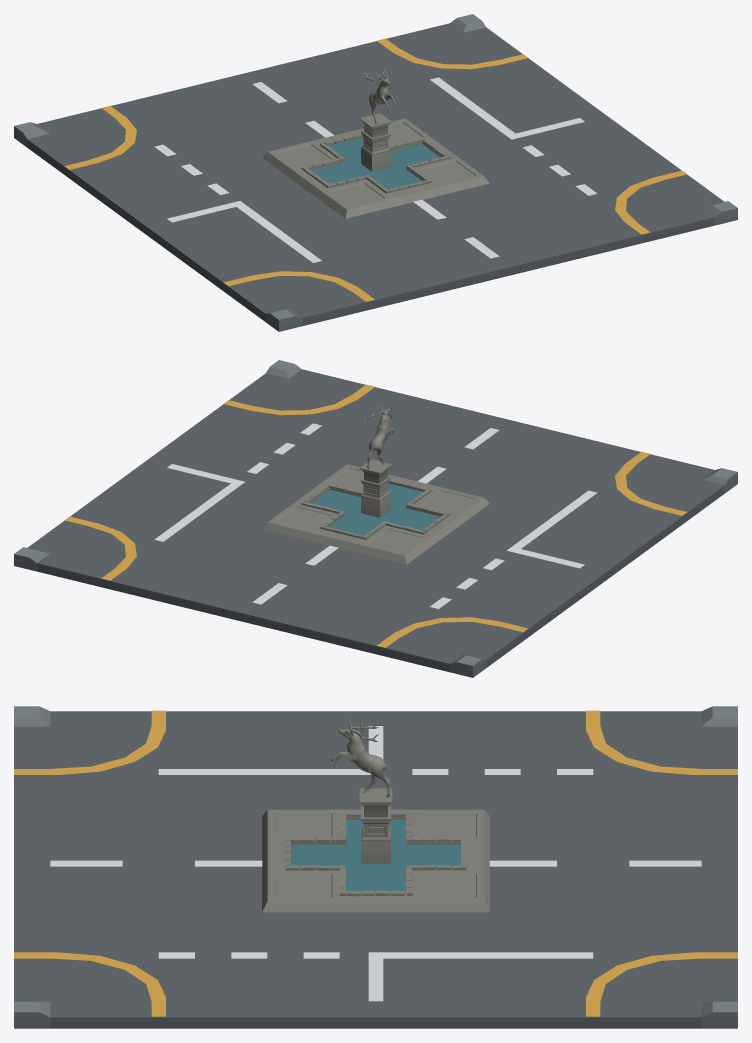
File: roundabout_road.fbx
3 views of the same model, one above another, from view 1: azimuth 30°, elevation 25°; view 2: azimuth 150°, elevation 25°; view 3: azimuth 270°, elevation 25° (orthographic). The views are drawn at different scales.
Visible parts, largest first — view 1: road_junction, TownCenter_SecondAge_Level1; view 2: road_junction, TownCenter_SecondAge_Level1; view 3: road_junction, TownCenter_SecondAge_Level1.
Part boxes in pixels (x1,y1,x2,y2): road_junction: (14,14,737,331); TownCenter_SecondAge_Level1: (262,68,489,218); road_junction: (14,360,737,677); TownCenter_SecondAge_Level1: (262,404,489,564); road_junction: (14,706,737,1028); TownCenter_SecondAge_Level1: (262,717,489,912).
Size of the model in its own units: 400 by 93.64 by 400.
Materials: 3 (1 with a texture image).
